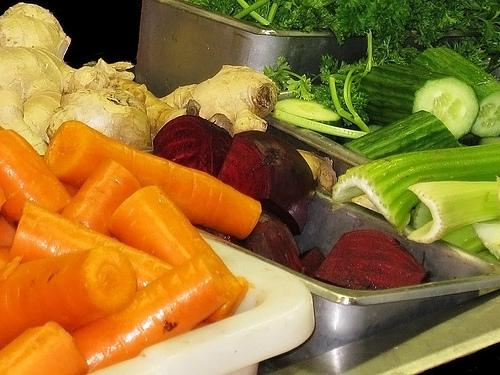carrot: (44, 120, 262, 240), (106, 185, 250, 323), (72, 250, 231, 371), (8, 198, 176, 291), (0, 248, 136, 352), (0, 128, 73, 230), (60, 158, 142, 238), (0, 322, 89, 374), (1, 216, 16, 246), (0, 246, 12, 278), (61, 181, 80, 198)
celery: (332, 144, 500, 237), (405, 181, 500, 244), (472, 220, 498, 257), (476, 250, 500, 264), (408, 208, 416, 226)
cucumber: (356, 62, 480, 140), (410, 46, 500, 137), (343, 110, 463, 160), (275, 98, 341, 126)
